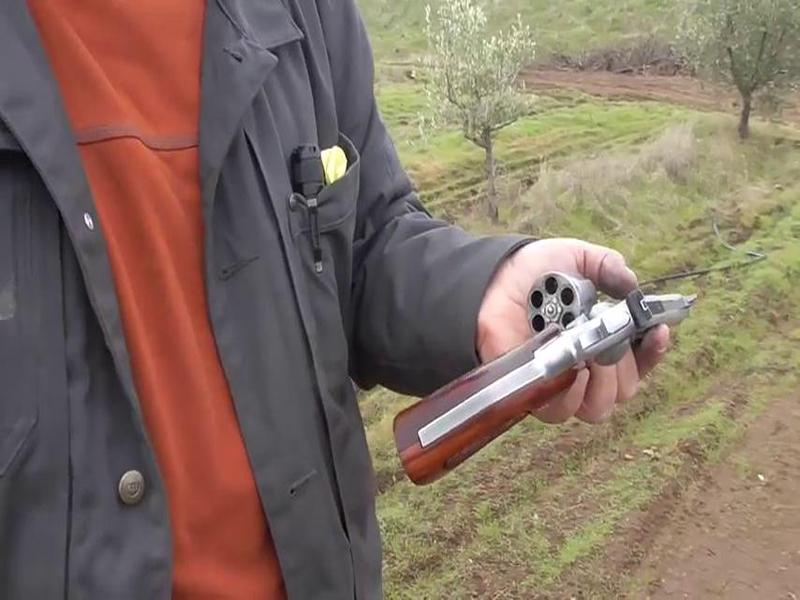Revolver: (438, 187, 714, 489)
